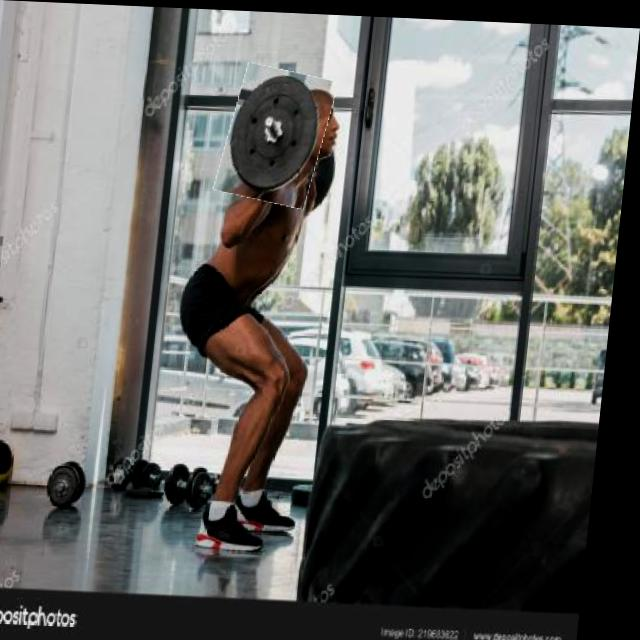barbell: (222, 64, 337, 204)
